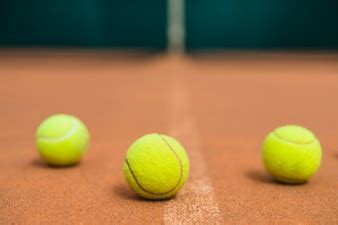tennis_ball: (123, 133, 191, 201), (262, 124, 322, 183), (34, 113, 91, 168)
